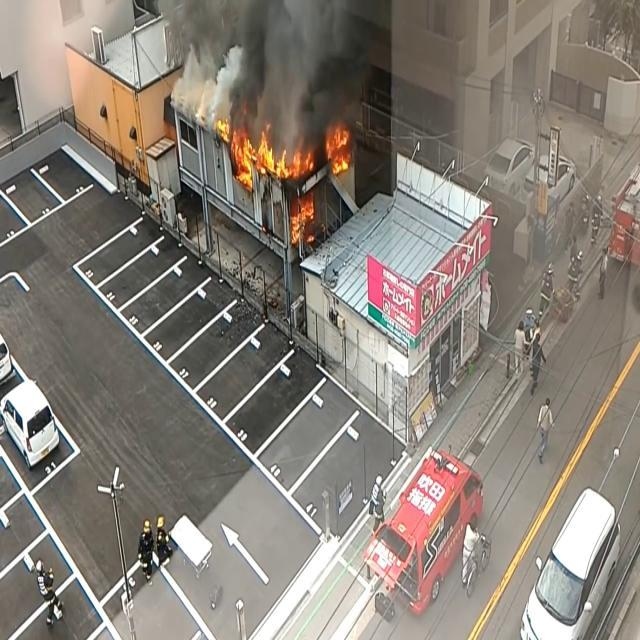Fire: (225, 126, 318, 188), (324, 118, 355, 178), (289, 184, 317, 249)
Smoke: (174, 0, 390, 130)
